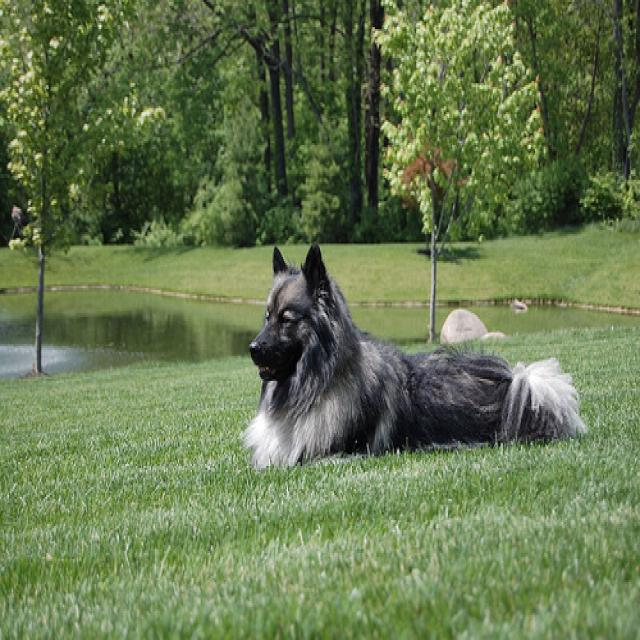dog-keeshond: (236, 232, 590, 476)
